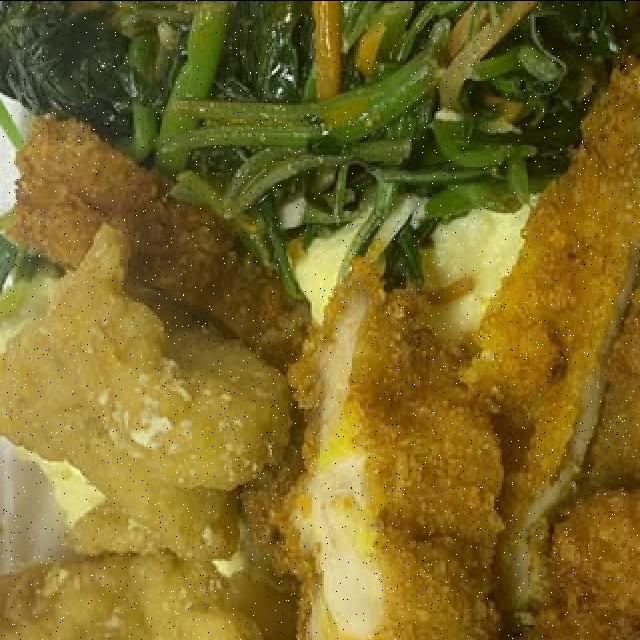Chicken: (8, 62, 638, 640)
Fish: (0, 226, 290, 640)
Green veg: (0, 2, 630, 294)
